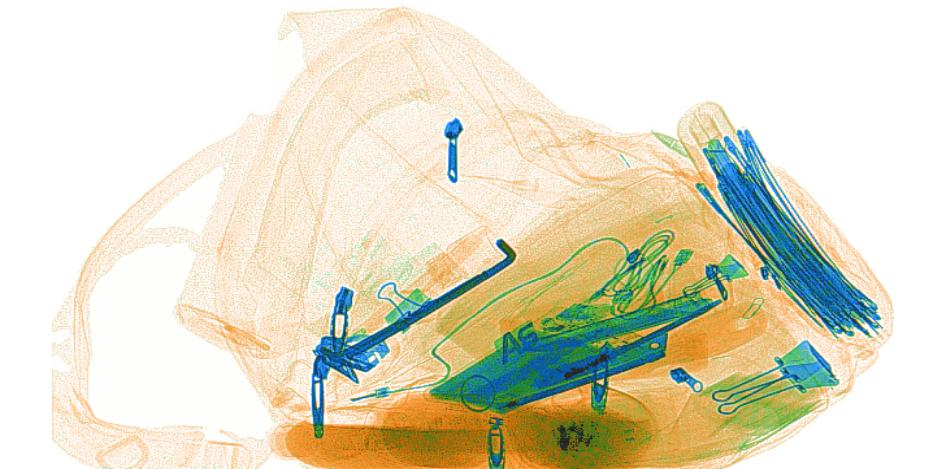knife: (521, 277, 731, 352), (529, 329, 668, 390)
